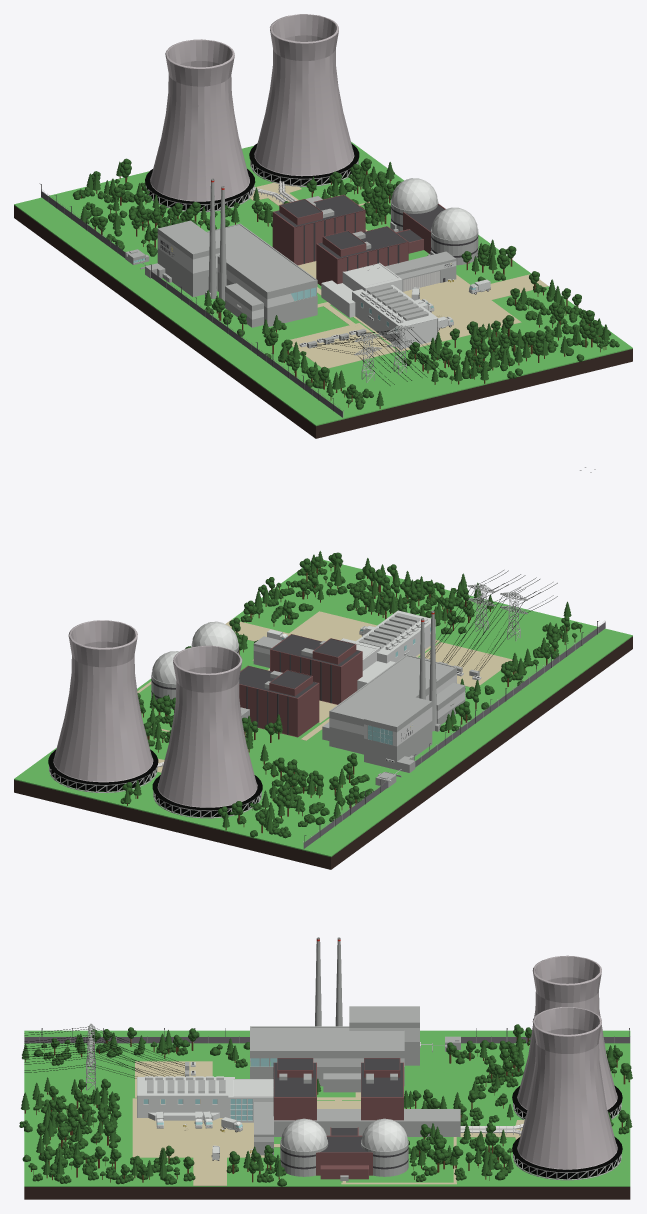
Rendered from nuclear_powerplant_low-poly.glb.
3 views of the same model, one above another, from view 1: azimuth 30°, elevation 25°; view 2: azimuth 150°, elevation 25°; view 3: azimuth 270°, elevation 25° (orthographic).
Visible parts, largest first — view 1: Cube_grass_0; view 2: Cube_grass_0; view 3: Cube_grass_0, qg_windows_0.
Boxes of the visible parts, bbox=[...] form: Cube_grass_0: bbox=[14, 14, 632, 438]; Cube_grass_0: bbox=[14, 467, 632, 869]; Cube_grass_0: bbox=[19, 937, 632, 1199]; qg_windows_0: bbox=[143, 1058, 277, 1127].
Size of the model in its own units: 48.9 by 24.2 by 81.7.
Materials: 2 (2 with a texture image).
